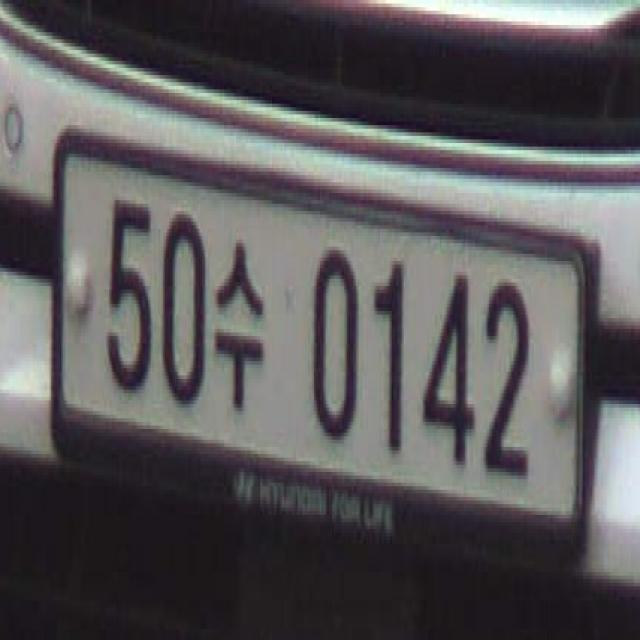0: (308, 236, 362, 456), (157, 208, 208, 420)
1: (369, 232, 408, 468)
2: (483, 268, 536, 496)
4: (417, 259, 475, 482)
5: (104, 180, 153, 404)
license_plate: (33, 110, 598, 576)
su: (214, 218, 268, 426)
